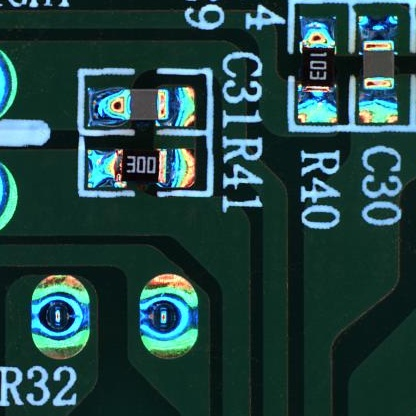spot: (139, 273, 200, 362), (30, 273, 91, 361)
